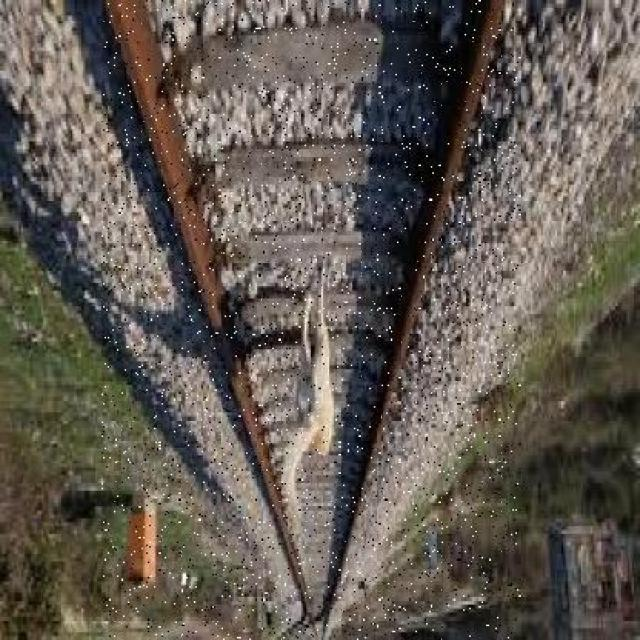danger: (268, 232, 357, 542)
rail: (100, 0, 520, 640)
